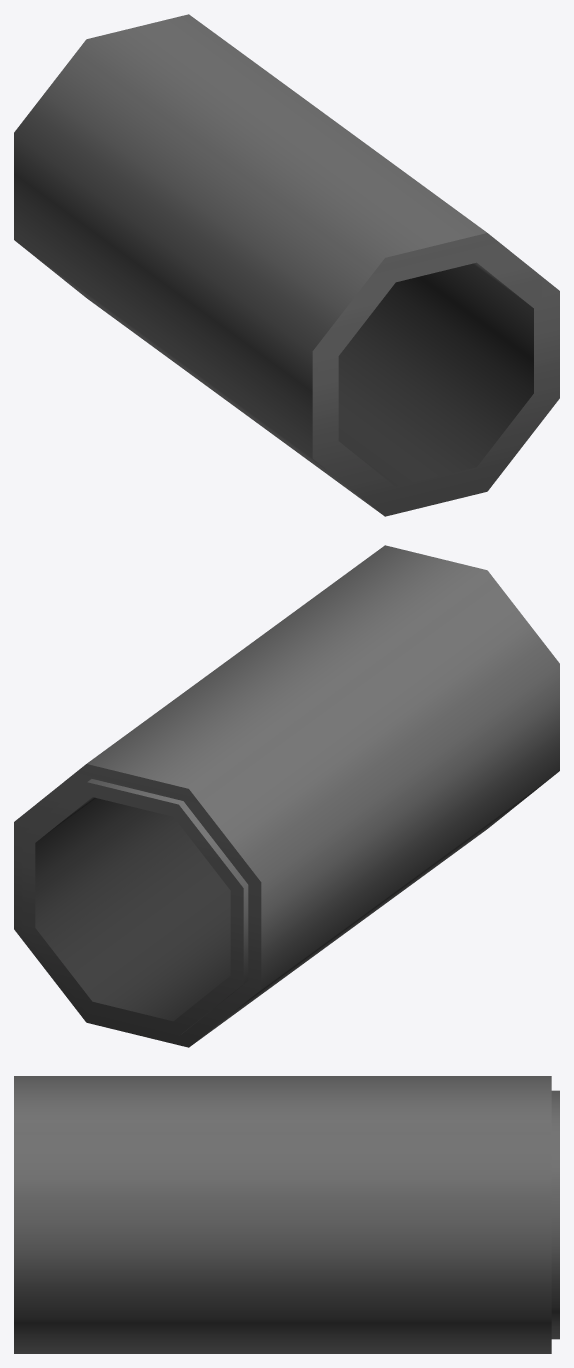
The model's file is Pipe_C_4_2.fbx.
The picture shows the model from 3 angles, top to bottom: view 1: azimuth 30°, elevation 25°; view 2: azimuth 150°, elevation 25°; view 3: azimuth 270°, elevation 25°; orthographic projection. The views are drawn at different scales.
Parts seen in each view (by area): view 1: Pipe_C_4_2; view 2: Pipe_C_4_2; view 3: Pipe_C_4_2.
Boxes of the visible parts, x1,y1,x2,y2 form: Pipe_C_4_2: (14,14,559,516); Pipe_C_4_2: (14,545,559,1047); Pipe_C_4_2: (14,1076,559,1353).
Bounding box in the file's own units: 114 × 114 × 243.
